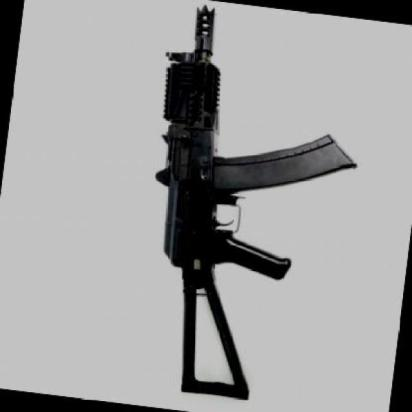Gun: (119, 0, 395, 412)
